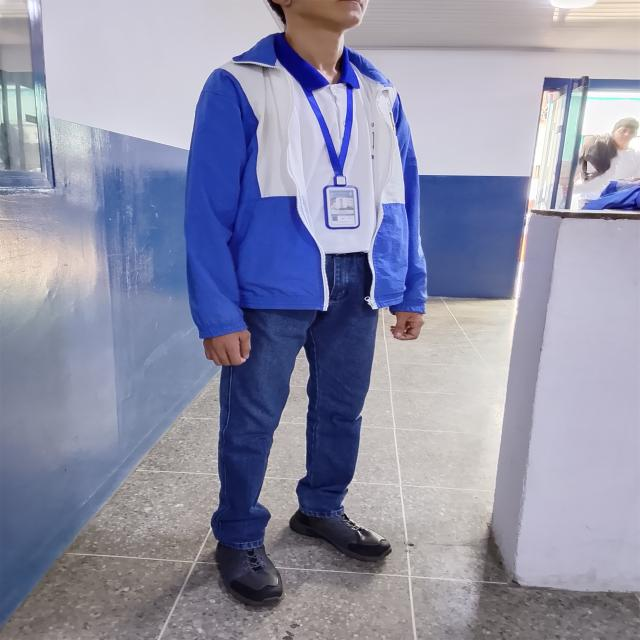carnet: (328, 188, 357, 227)
chaqueta_unefa: (183, 32, 428, 339)
